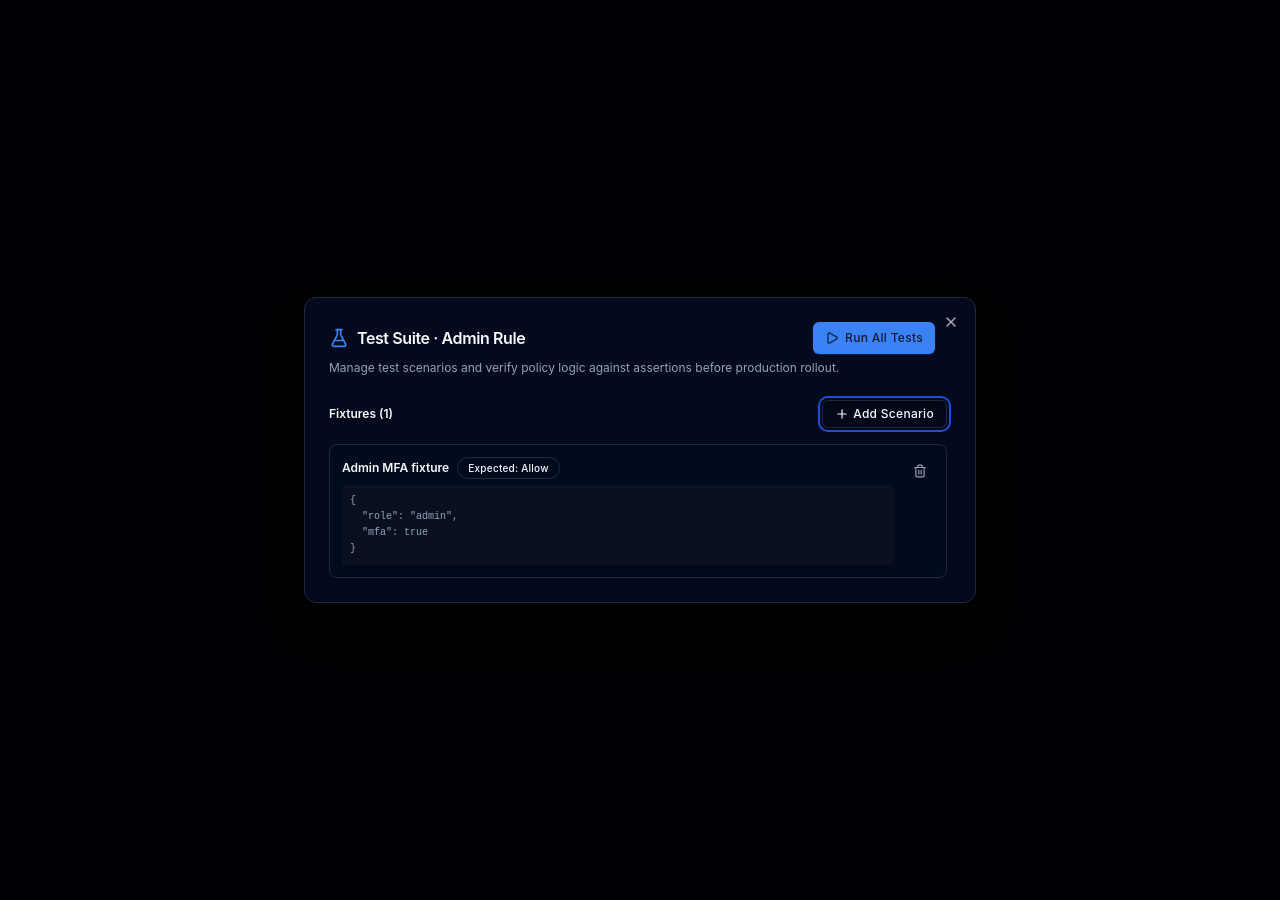
Themis Depth Components › renders PolicyTestSuiteDialog and executes test suite
The width and height of the screenshot is (1280, 900).
Expected: the text "Admin MFA fixture" is shown, [342,460,449,476]
Expected: the text "Expected: Allow" is shown, [457,457,560,479]
Click the button "Run All Tests": click(874, 338) [813,322,935,354]
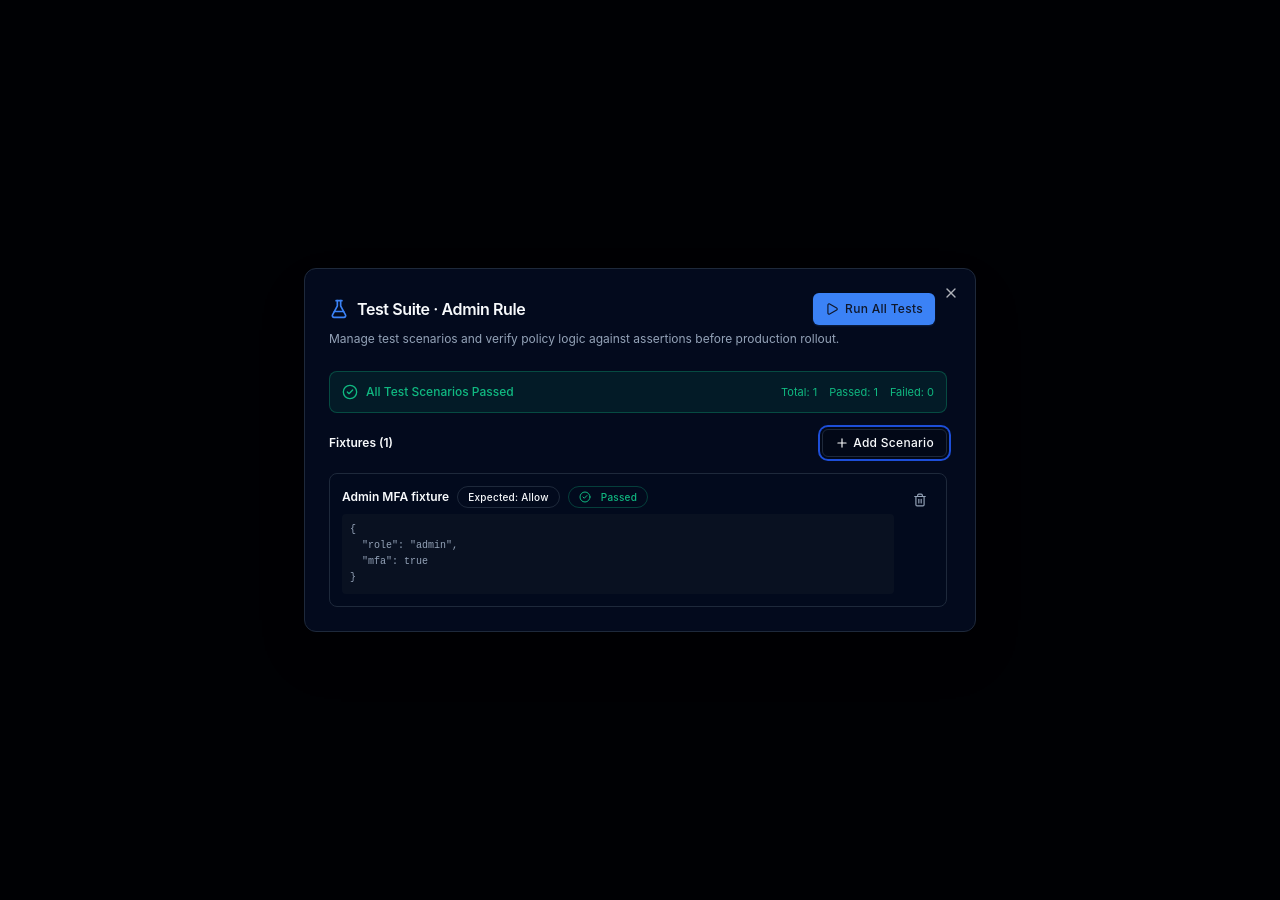
Now the text "All Test Scenarios Passed" is shown, box [366,384,514,400]
